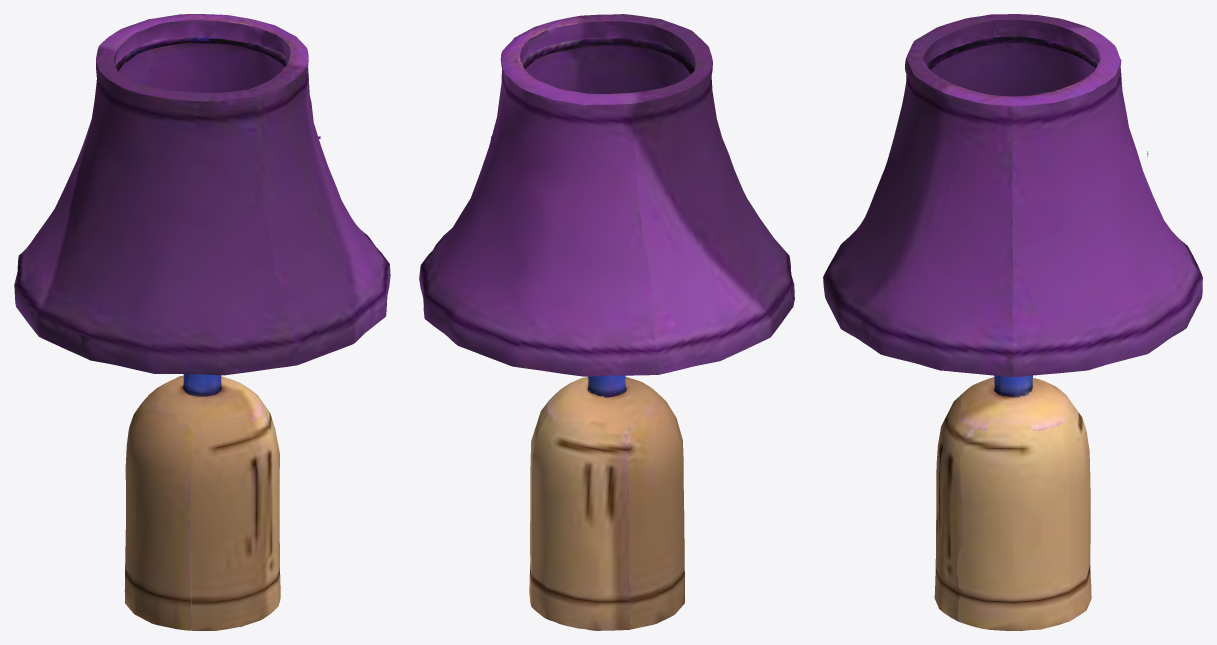
3 renders of one model, left to right at view 1: azimuth 30°, elevation 25°; view 2: azimuth 150°, elevation 25°; view 3: azimuth 270°, elevation 25°, orthographic.
Parts seen in each view (by area): view 1: world; view 2: world; view 3: world.
Boxes of the visible parts, x1=… form: world: x1=14, y1=14, x2=390, y2=630; world: x1=419, y1=14, x2=794, y2=630; world: x1=823, y1=14, x2=1202, y2=630.
Bounding box in the file's own units: 0.3799 × 0.5977 × 0.3798.
Materials: 1 (1 with a texture image).
